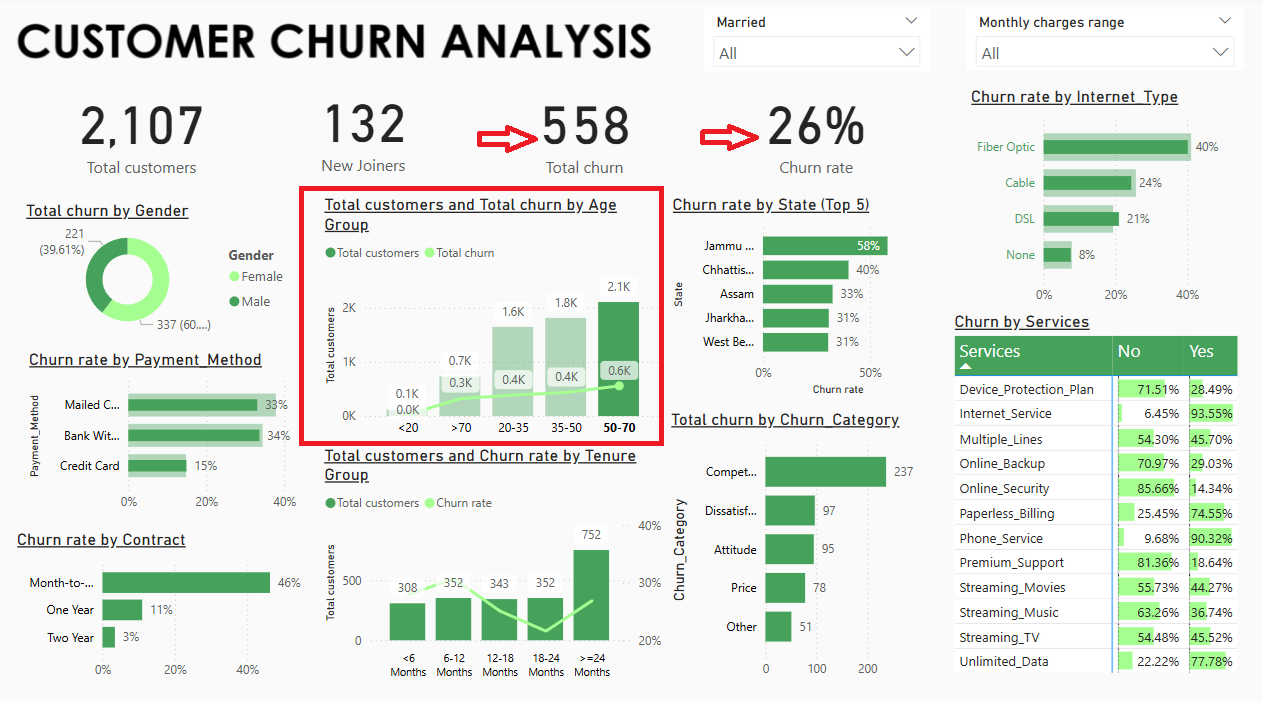

The page's visual inventory and layout, read from the dashboard file:
{"tool":"powerbi","page":{"name":"Analysis","canvas":[1280,720],"ordinal":0},"visuals":[{"type":"card","fields":{"Values":["Measures_table.New Joiners"]},"box":[263.3,76.7,211.7,111.7],"z":0},{"type":"card","fields":{"Values":["Measures_table.Total churn"]},"box":[486.7,78.3,213.3,111.7],"z":1000},{"type":"card","fields":{"Values":["Measures_table.Total customers"]},"box":[26.7,78.3,236.7,111.7],"z":2000},{"type":"donutChart","fields":{"Category":["churn_production.Gender"],"Y":["Measures_table.Total churn"]},"box":[24.4,207.1,280.4,139.5],"z":3000},{"type":"lineStackedColumnComboChart","fields":{"Category":["age_grouping.Age Group"],"Y":["Measures_table.Total customers"],"Y2":["Measures_table.Total churn"]},"box":[325,201.7,350,253.3],"z":4000},{"type":"clusteredBarChart","fields":{"Category":["churn_production.Payment_Method"],"Y":["Measures_table.Churn rate"]},"box":[26.7,356.7,298.3,171.7],"z":5000},{"type":"clusteredBarChart","fields":{"Category":["churn_production.Contract"],"Y":["Measures_table.Churn rate"]},"box":[15.1,539.1,310.4,160.5],"z":6000},{"type":"card","fields":{"Values":["Measures_table.Churn rate"]},"box":[713.3,78.3,226.7,111.7],"z":7000},{"type":"lineStackedColumnComboChart","fields":{"Category":["tenure_grouping.Tenure Group"],"Y":["Measures_table.Total customers"],"Y2":["Measures_table.Churn rate"]},"box":[325.6,454.3,349.8,243.8],"z":8000},{"type":"clusteredBarChart","title":"Churn rate by State (Top 5)","fields":{"Category":["churn_production.State"],"Y":["Measures_table.Churn rate"]},"box":[676.7,201.7,265,206.7],"z":9000},{"type":"clusteredBarChart","fields":{"Category":["churn_production.Churn_Category"],"Y":["Measures_table.Total churn"]},"box":[675.3,417.9,265,280.1],"z":10000},{"type":"clusteredBarChart","fields":{"Category":["churn_production.Internet_Type"],"Y":["Measures_table.Churn rate"]},"box":[978.3,91.7,280,228.3],"z":11000},{"type":"pivotTable","title":"Churn by Services","fields":{"Rows":["prod_service.Services"],"Columns":["prod_service.Status"],"Values":["Sum(prod_service.Churn status)"]},"box":[961.7,320,296.7,380],"z":12000},{"type":"slicer","fields":{"Values":["churn_production.Monthly charges "]},"box":[977.9,14.4,280.4,61.8],"z":13000},{"type":"slicer","fields":{"Values":["churn_production.Married"]},"box":[713.3,14.4,228.7,63.3],"z":14000},{"type":"textbox","box":[676.8,0,443.7,299.8],"z":14001}]}

Visuals, with their boxes in screenshot pixels (x1, y1, x2, y2), scaled from the page's 1280x720 canvas onto the 1280x720 screenshot:
card - Measures_table.New Joiners: 263, 77, 475, 188
card - Measures_table.Total churn: 487, 78, 700, 190
card - Measures_table.Total customers: 27, 78, 263, 190
donutChart - churn_production.Gender x Measures_table.Total churn: 24, 207, 305, 347
lineStackedColumnComboChart - age_grouping.Age Group x Measures_table.Total customers: 325, 202, 675, 455
clusteredBarChart - churn_production.Payment_Method x Measures_table.Churn rate: 27, 357, 325, 528
clusteredBarChart - churn_production.Contract x Measures_table.Churn rate: 15, 539, 326, 700
card - Measures_table.Churn rate: 713, 78, 940, 190
lineStackedColumnComboChart - tenure_grouping.Tenure Group x Measures_table.Total customers: 326, 454, 675, 698
"Churn rate by State (Top 5)" clusteredBarChart: 677, 202, 942, 408
clusteredBarChart - churn_production.Churn_Category x Measures_table.Total churn: 675, 418, 940, 698
clusteredBarChart - churn_production.Internet_Type x Measures_table.Churn rate: 978, 92, 1258, 320
"Churn by Services" pivotTable: 962, 320, 1258, 700
slicer - churn_production.Monthly charges : 978, 14, 1258, 76
slicer - churn_production.Married: 713, 14, 942, 78
textbox: 677, 0, 1120, 300
